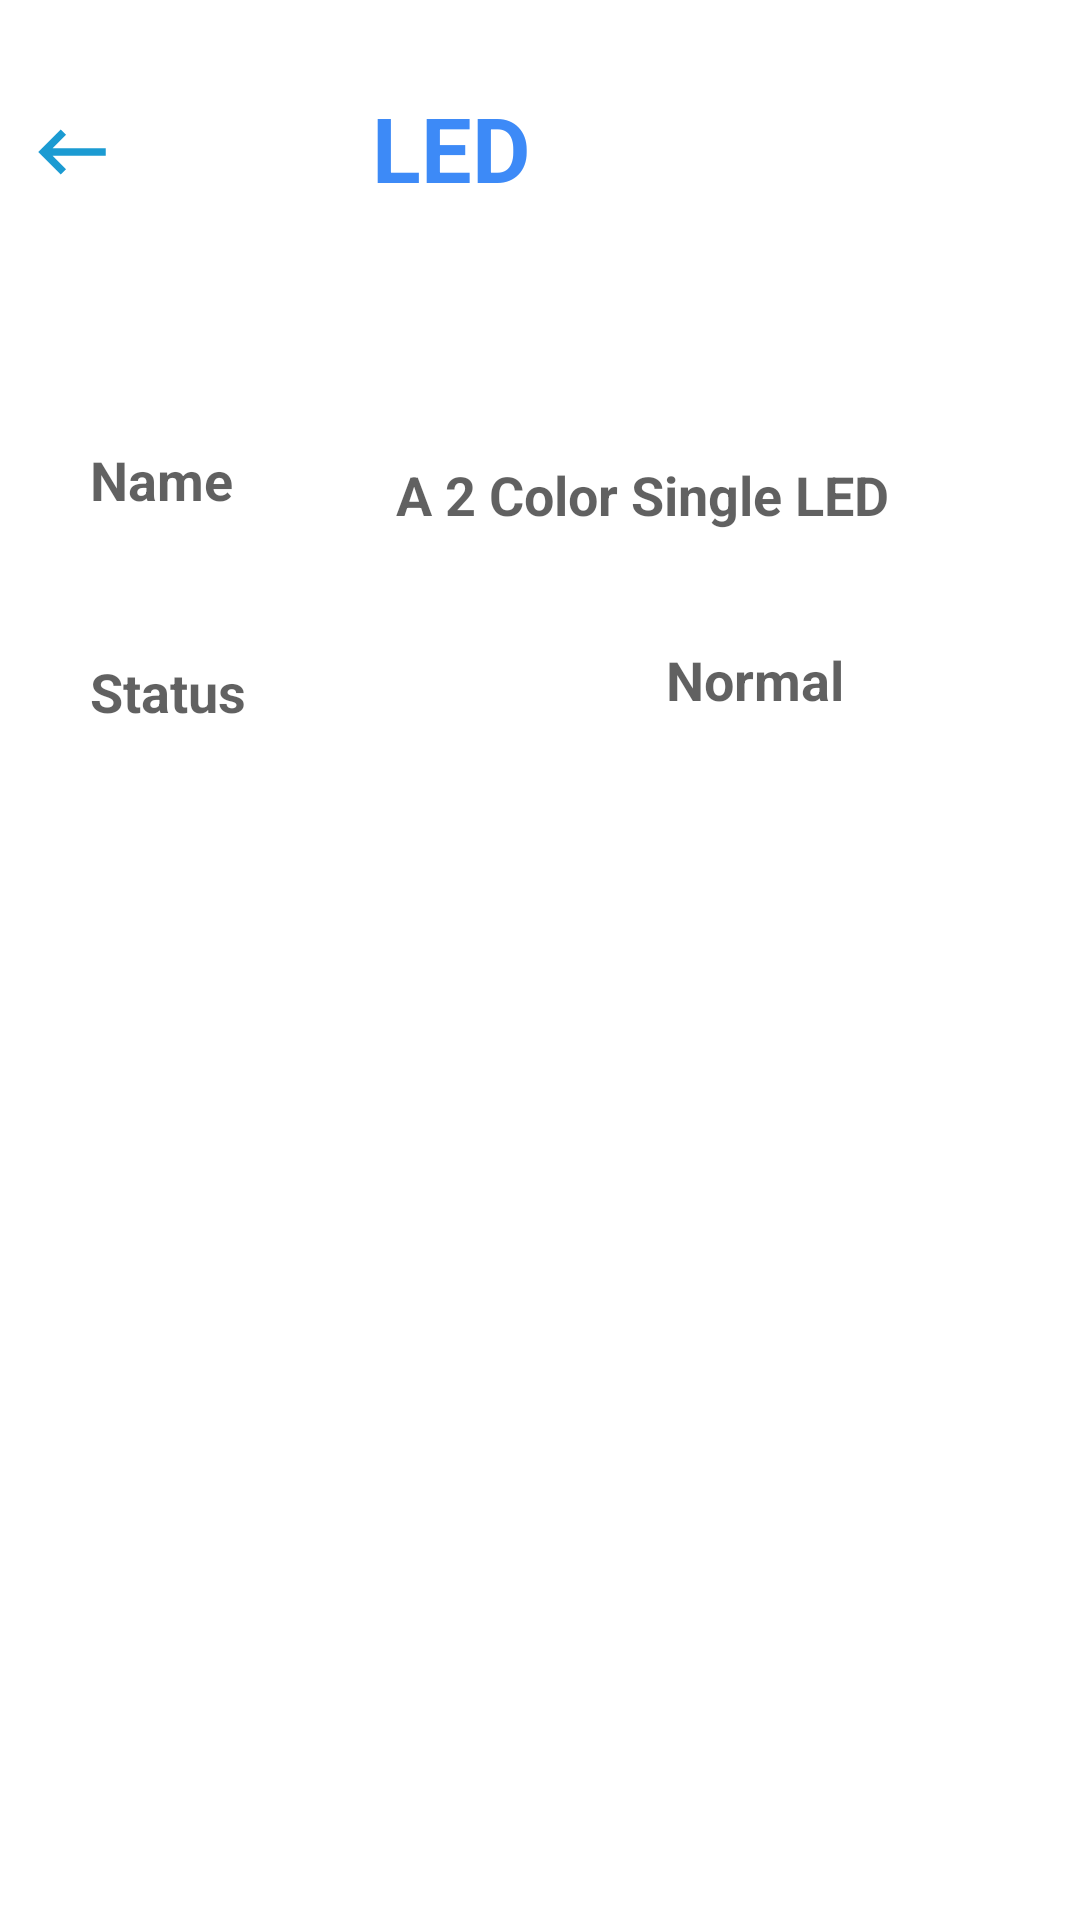

Icons on this 1080*1920 Android screen, each with its box as Rect(x1, y1, x2, y2):
keyboard backspace: Rect(38, 129, 106, 175)
